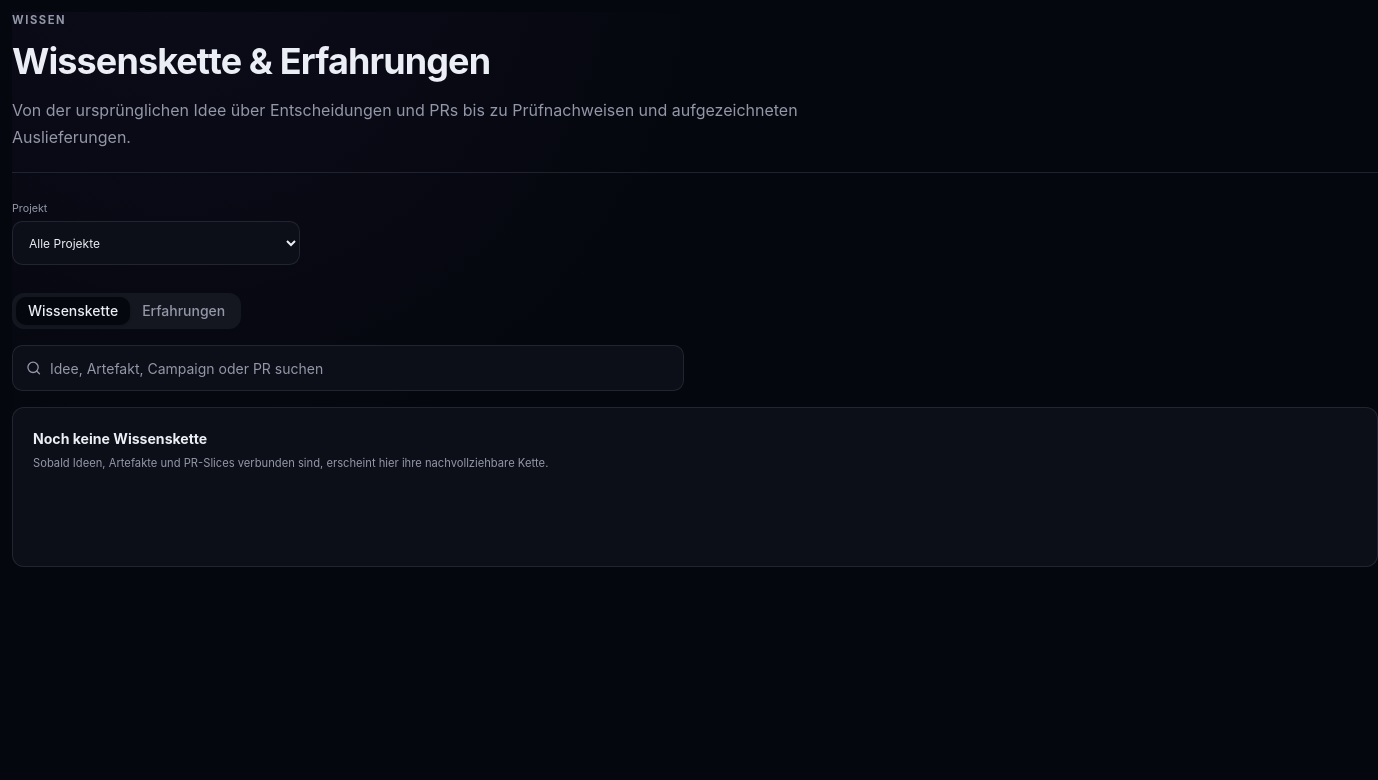
Test: secondary React pages › keeps the active project filter visible when switching to Lessons Learned
Select "runtime" in the dropdown named "Projekt für Wissen" at (156, 243), box [12,221,300,265]
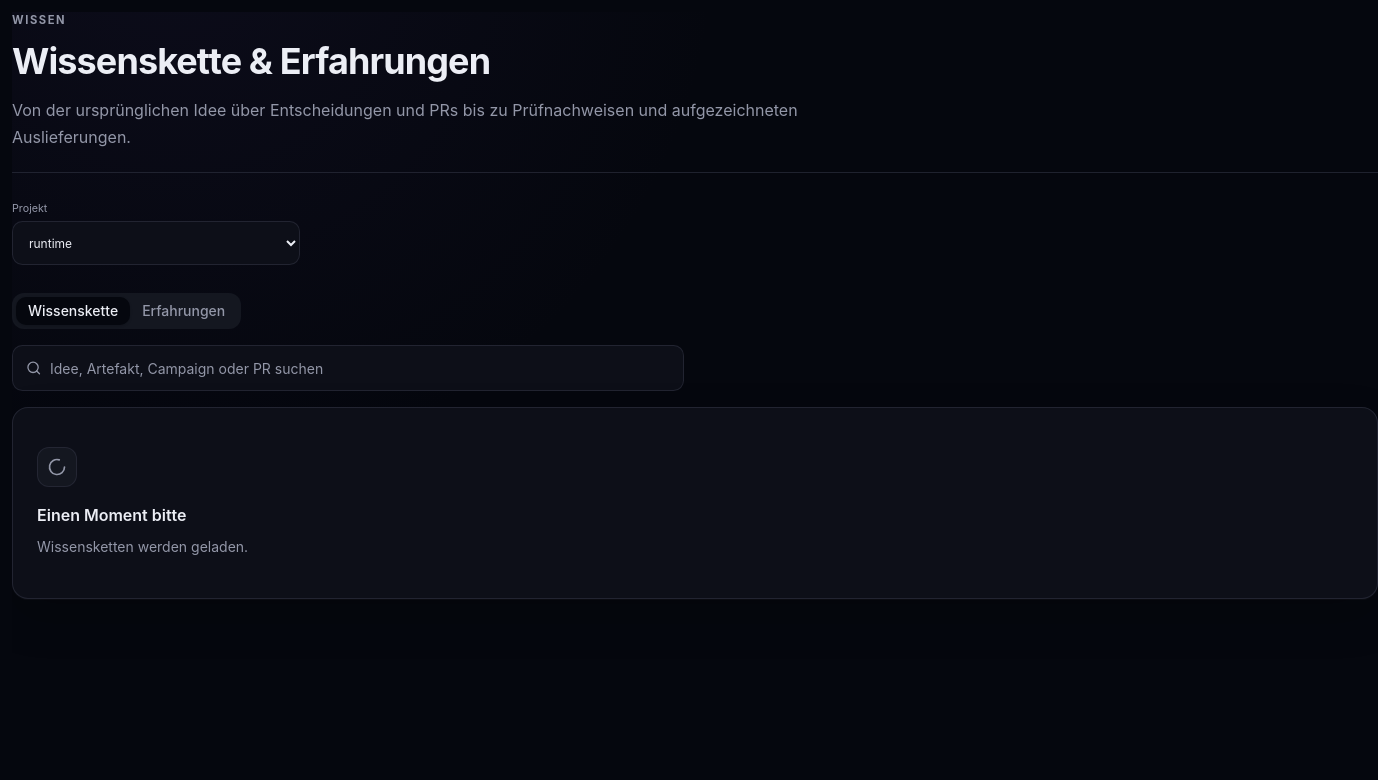
Press the mouse on the tab "Erfahrungen" at (184, 311), box [130,297,237,325]
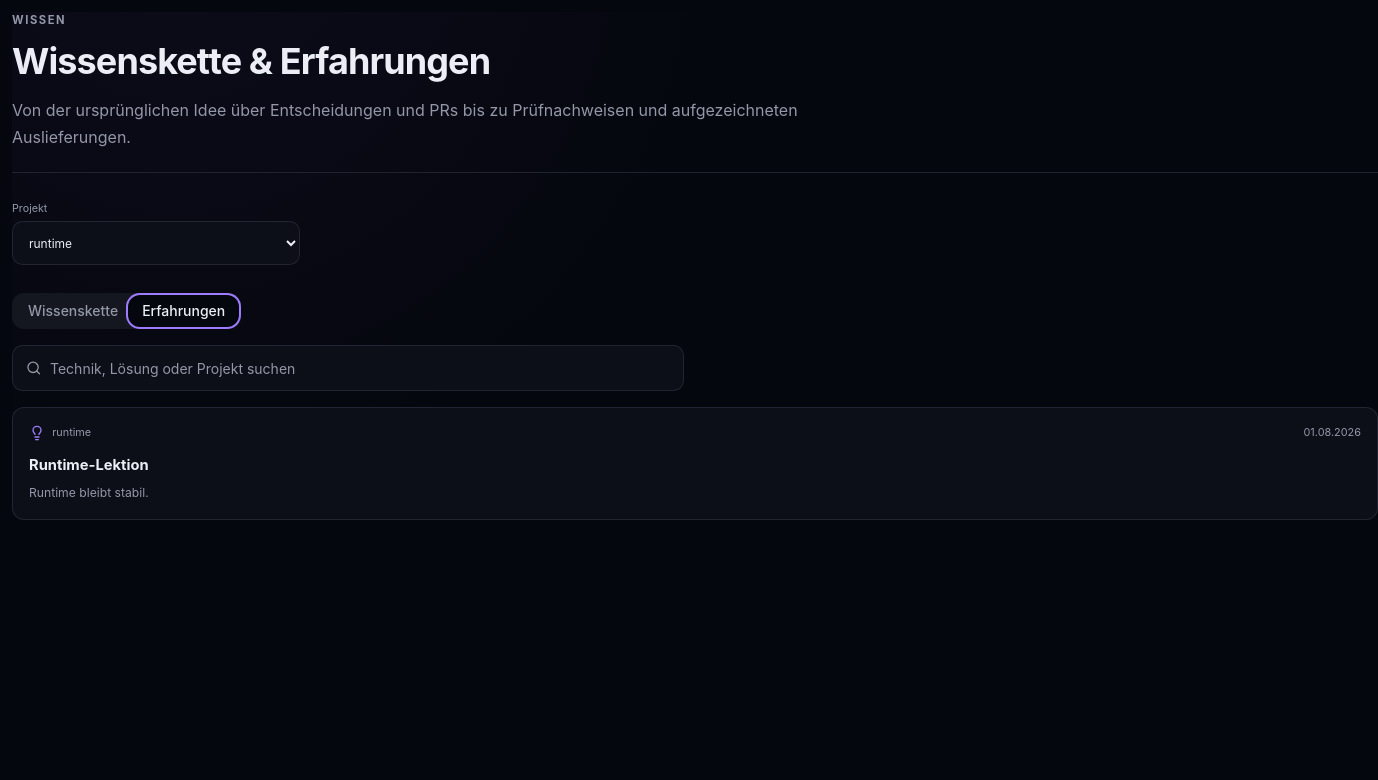
Now the heading "Runtime-Lektion" is shown, box [29,456,149,474]
